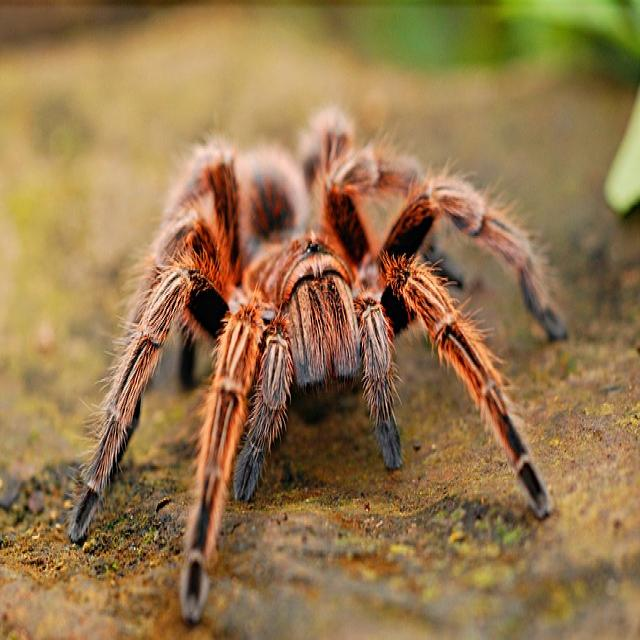spyder: (70, 109, 567, 626)
